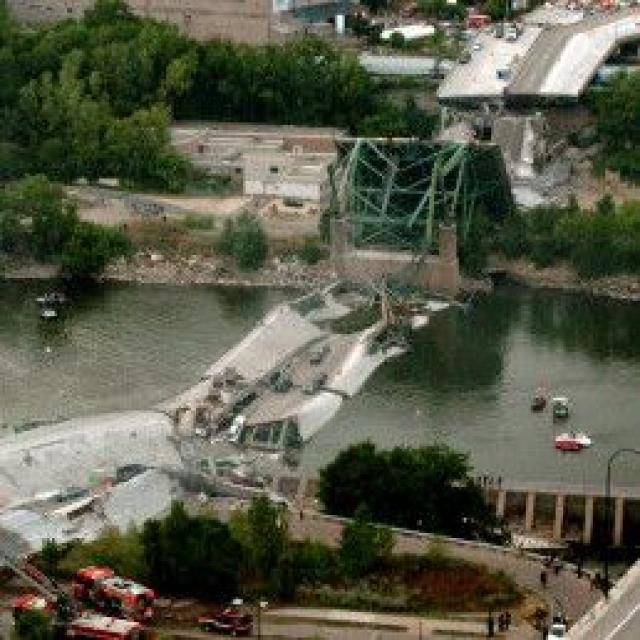collapsed_building: (174, 280, 432, 467)
